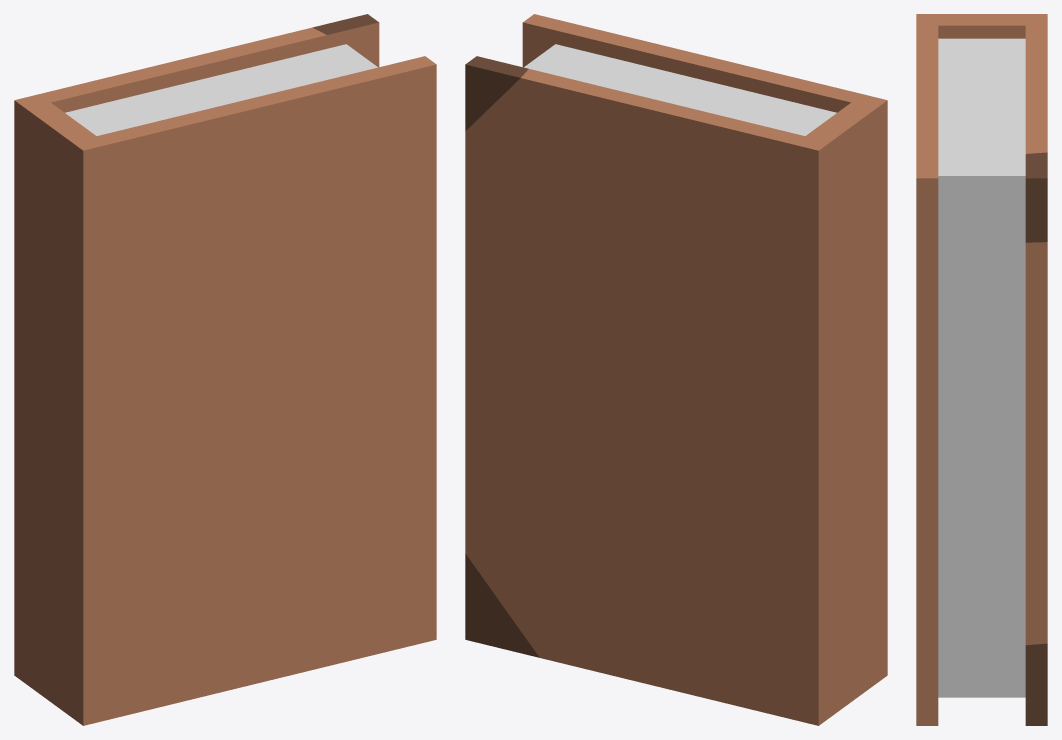
File: book_2.fbx
3 views of the same model, side by side, from view 1: azimuth 30°, elevation 25°; view 2: azimuth 150°, elevation 25°; view 3: azimuth 270°, elevation 25° (orthographic). The views are drawn at different scales.
Visible parts, largest first — view 1: Book.002; view 2: Book.002; view 3: Book.002.
Part boxes in pixels (box(x1,y1,x2,y2)): Book.002: box(14, 14, 436, 725); Book.002: box(465, 14, 887, 725); Book.002: box(916, 14, 1047, 725).
Bounding box in the file's own units: 59.48 × 92.53 × 20.11.
